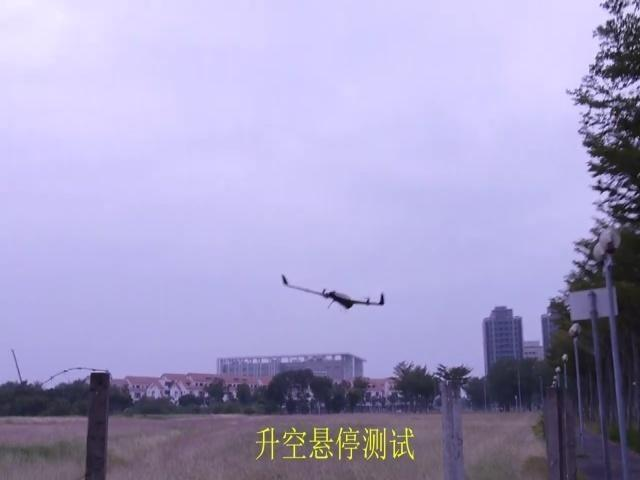Airplane: (281, 273, 385, 312)
